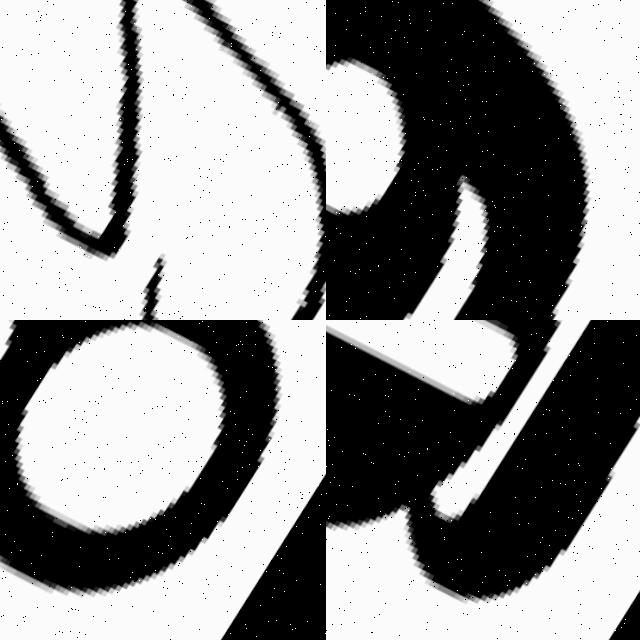8: (0, 320, 326, 640)
G: (326, 0, 640, 320), (326, 320, 640, 640)
Y: (0, 0, 326, 320)
